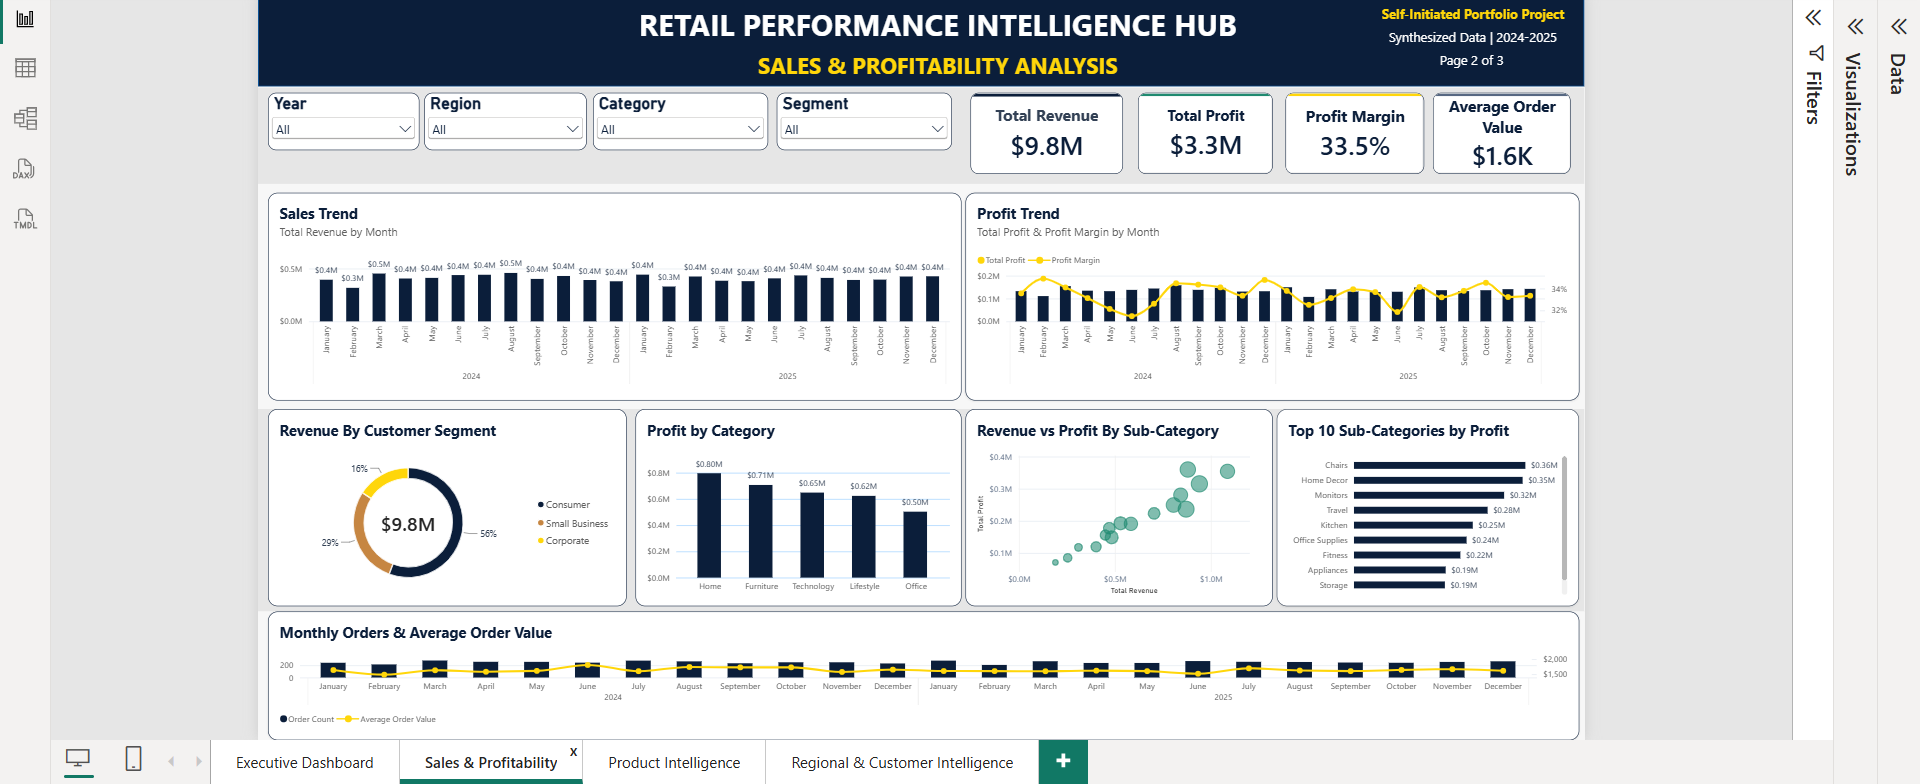

Layout of this report page (visuals, bound fields, positions):
{"tool":"powerbi","page":{"name":"Sales & Profitability","canvas":[1920,1080],"ordinal":1},"visuals":[{"type":"shape","box":[0,0,1920.1,133.9],"z":0},{"type":"textbox","box":[515.8,14.5,937.4,67],"z":1000},{"type":"textbox","box":[515.8,81.4,937.4,67],"z":2000},{"type":"textbox","box":[1597.9,16.3,322.1,32.6],"z":3000},{"type":"textbox","box":[1597.9,48.9,322.1,32.6],"z":4000},{"type":"textbox","box":[1596.9,83.1,322.1,32.6],"z":5000},{"type":"shape","box":[0,135.7,1920.1,139.3],"z":6000},{"type":"slicer","fields":{"Values":["Date.Year"]},"box":[14.5,143,219,83.2],"z":7000},{"type":"slicer","fields":{"Values":["Orders.Region"]},"box":[240.7,143,235.3,83.2],"z":8000},{"type":"slicer","fields":{"Values":["Orders.Category"]},"box":[485,143,253.4,83.2],"z":9000},{"type":"slicer","fields":{"Values":["Orders.Segment"]},"box":[751,143,253.4,83.2],"z":10000},{"type":"cardVisual","fields":{"Data":["Orders.Total Revenue"]},"box":[1031.5,143,220.8,117.6],"z":11000},{"type":"cardVisual","fields":{"Data":["Orders.Total Profit"]},"box":[1274,143,195.4,117.6],"z":12000},{"type":"cardVisual","fields":{"Data":["Orders.Profit Margin"]},"box":[1487.5,143,200.9,117.6],"z":13000},{"type":"cardVisual","fields":{"Data":["Orders.Average Order Value"]},"box":[1701.1,143,199.1,117.6],"z":14000},{"type":"clusteredColumnChart","title":"Sales Trend","fields":{"Category":["Date.Year_Month.Variation.Date Hierarchy.Year","Date.Year_Month.Variation.Date Hierarchy.Month"],"Y":["Orders.Total Revenue"]},"box":[14.5,287.7,1004.4,300.4],"z":15000},{"type":"lineClusteredColumnComboChart","title":"Profit Trend","fields":{"Category":["Date.Year_Month.Variation.Date Hierarchy.Year","Date.Year_Month.Variation.Date Hierarchy.Month"],"Y":["Orders.Total Profit"],"Y2":["Orders.Profit Margin"]},"box":[1024.3,287.7,888.5,300.4],"z":16000},{"type":"shape","box":[0,600.8,1920.1,293.2],"z":17000},{"type":"donutChart","title":"Revenue By Customer Segment","fields":{"Category":["Customers.Segment"],"Y":["Orders.Total Revenue"]},"box":[14.5,600.8,519.4,285.9],"z":18000},{"type":"clusteredColumnChart","title":"Profit by Category","fields":{"Category":["Products.Category"],"Y":["Orders.Total Profit"]},"box":[546.5,600.8,472.3,285.9],"z":19000},{"type":"scatterChart","title":"Revenue vs Profit By Sub-Category","fields":{"X":["Orders.Total Revenue"],"Y":["Orders.Total Profit"],"Size":["Orders.Order Count"],"Category":["Orders.Subcategory"]},"box":[1024.3,600.8,445.2,285.9],"z":20000},{"type":"clusteredBarChart","title":"Top 10 Sub-Categories by Profit","fields":{"Category":["Orders.Subcategory"],"Y":["Orders.Total Profit"]},"box":[1474.9,600.8,437.9,285.9],"z":21000},{"type":"lineClusteredColumnComboChart","title":"Monthly Orders & Average Order Value","fields":{"Category":["Date.Year_Month.Variation.Date Hierarchy.Year","Date.Year_Month.Variation.Date Hierarchy.Month"],"Y":["Orders.Order Count"],"Y2":["Orders.Average Order Value"]},"box":[14.5,894,1898.3,186.4],"z":22000}]}

Visuals, with their boxes on the page's 1920x1080 design canvas (x1, y1, x2, y2). These are canvas units, not pixel positions in the 1920x784 screenshot, which may show the page scaled, cropped or inside an application window:
shape: (left=0, top=0, right=1920, bottom=134)
textbox: (left=516, top=14, right=1453, bottom=82)
textbox: (left=516, top=81, right=1453, bottom=148)
textbox: (left=1598, top=16, right=1920, bottom=49)
textbox: (left=1598, top=49, right=1920, bottom=82)
textbox: (left=1597, top=83, right=1919, bottom=116)
shape: (left=0, top=136, right=1920, bottom=275)
slicer - Date.Year: (left=14, top=143, right=234, bottom=226)
slicer - Orders.Region: (left=241, top=143, right=476, bottom=226)
slicer - Orders.Category: (left=485, top=143, right=738, bottom=226)
slicer - Orders.Segment: (left=751, top=143, right=1004, bottom=226)
cardVisual - Orders.Total Revenue: (left=1032, top=143, right=1252, bottom=261)
cardVisual - Orders.Total Profit: (left=1274, top=143, right=1469, bottom=261)
cardVisual - Orders.Profit Margin: (left=1488, top=143, right=1688, bottom=261)
cardVisual - Orders.Average Order Value: (left=1701, top=143, right=1900, bottom=261)
"Sales Trend" clusteredColumnChart: (left=14, top=288, right=1019, bottom=588)
"Profit Trend" lineClusteredColumnComboChart: (left=1024, top=288, right=1913, bottom=588)
shape: (left=0, top=601, right=1920, bottom=894)
"Revenue By Customer Segment" donutChart: (left=14, top=601, right=534, bottom=887)
"Profit by Category" clusteredColumnChart: (left=546, top=601, right=1019, bottom=887)
"Revenue vs Profit By Sub-Category" scatterChart: (left=1024, top=601, right=1470, bottom=887)
"Top 10 Sub-Categories by Profit" clusteredBarChart: (left=1475, top=601, right=1913, bottom=887)
"Monthly Orders & Average Order Value" lineClusteredColumnComboChart: (left=14, top=894, right=1913, bottom=1080)
